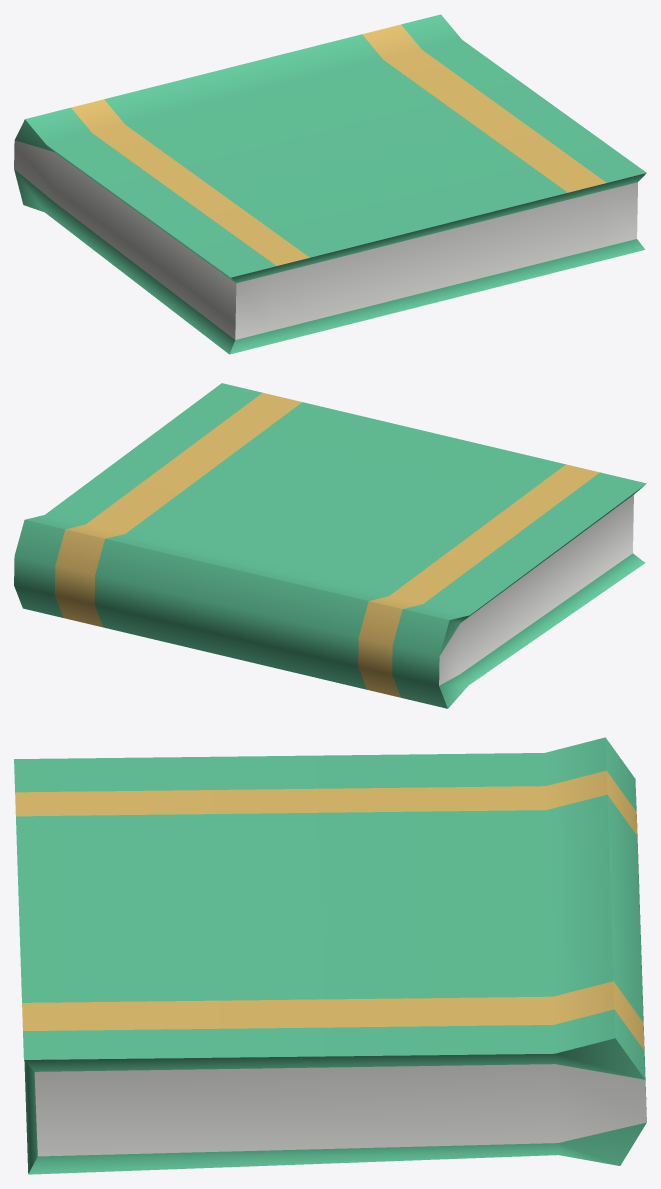
The model's file is GreenBook_mesh.fbx.
3 views of the same model, one above another, from view 1: azimuth 30°, elevation 25°; view 2: azimuth 150°, elevation 25°; view 3: azimuth 270°, elevation 25° (orthographic). The views are drawn at different scales.
Visible parts, largest first — view 1: pCube29; view 2: pCube29; view 3: pCube29.
Boxes of the visible parts, box(x1,y1,x2,y2) form: pCube29: box(14, 14, 646, 354); pCube29: box(14, 383, 646, 708); pCube29: box(14, 737, 646, 1174).
Bounding box in the file's own units: 5.1 × 1.04 × 4.48.
